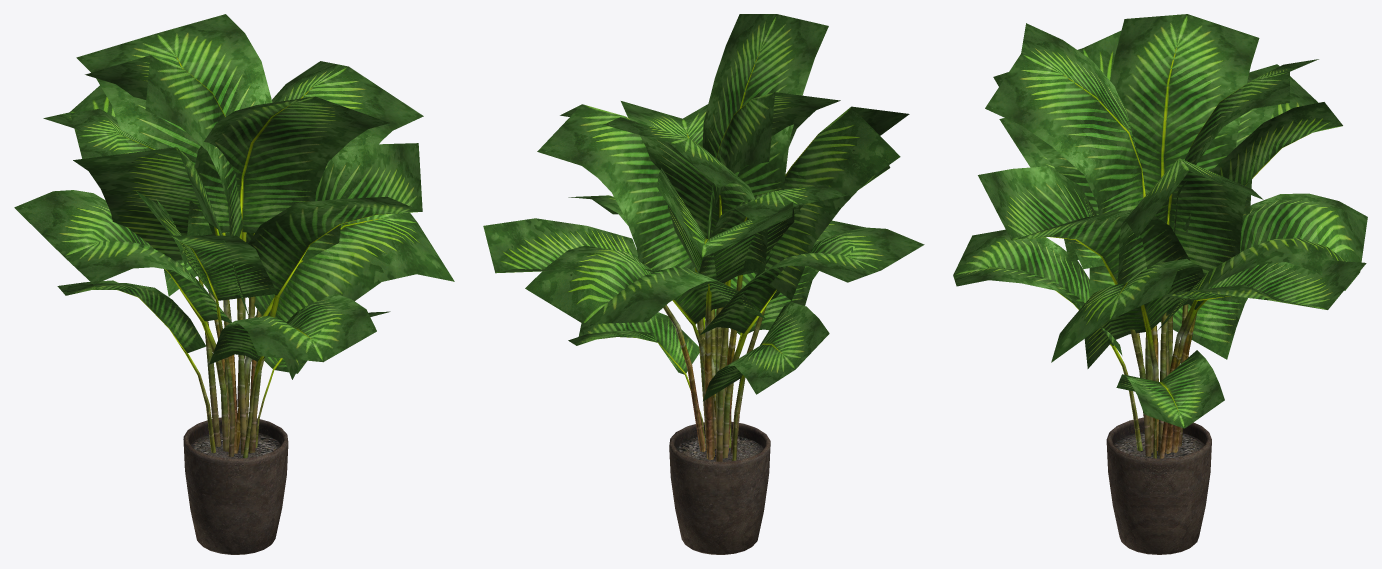
The model's file is Furniture_foliageplant_01b_LOD0 #39153.fbx.
The picture shows the model from 3 angles, left to right: view 1: azimuth 30°, elevation 25°; view 2: azimuth 150°, elevation 25°; view 3: azimuth 270°, elevation 25°; orthographic projection. The views are drawn at different scales.
Parts seen in each view (by area): view 1: foliageplant_01b_B, foliageplant_01b_A; view 2: foliageplant_01b_B, foliageplant_01b_A; view 3: foliageplant_01b_B, foliageplant_01b_A.
Part boxes in pixels (left/top/right/bottom): foliageplant_01b_B: left=14, top=14, right=454, bottom=458; foliageplant_01b_A: left=183, top=417, right=288, bottom=554; foliageplant_01b_B: left=483, top=14, right=924, bottom=461; foliageplant_01b_A: left=669, top=421, right=770, bottom=554; foliageplant_01b_B: left=953, top=14, right=1367, bottom=458; foliageplant_01b_A: left=1106, top=417, right=1211, bottom=554.
Size of the model in its own units: 1.42 by 1.87 by 1.43.
2 materials, 2 textured.
